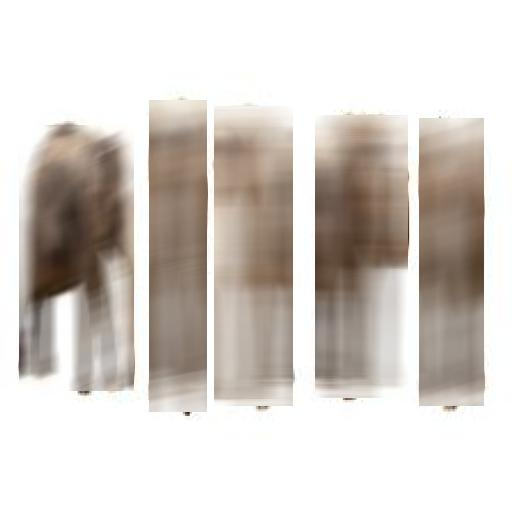Elephant: (19, 125, 134, 391), (315, 116, 408, 398), (214, 106, 293, 406), (419, 121, 484, 403), (149, 102, 207, 410)
